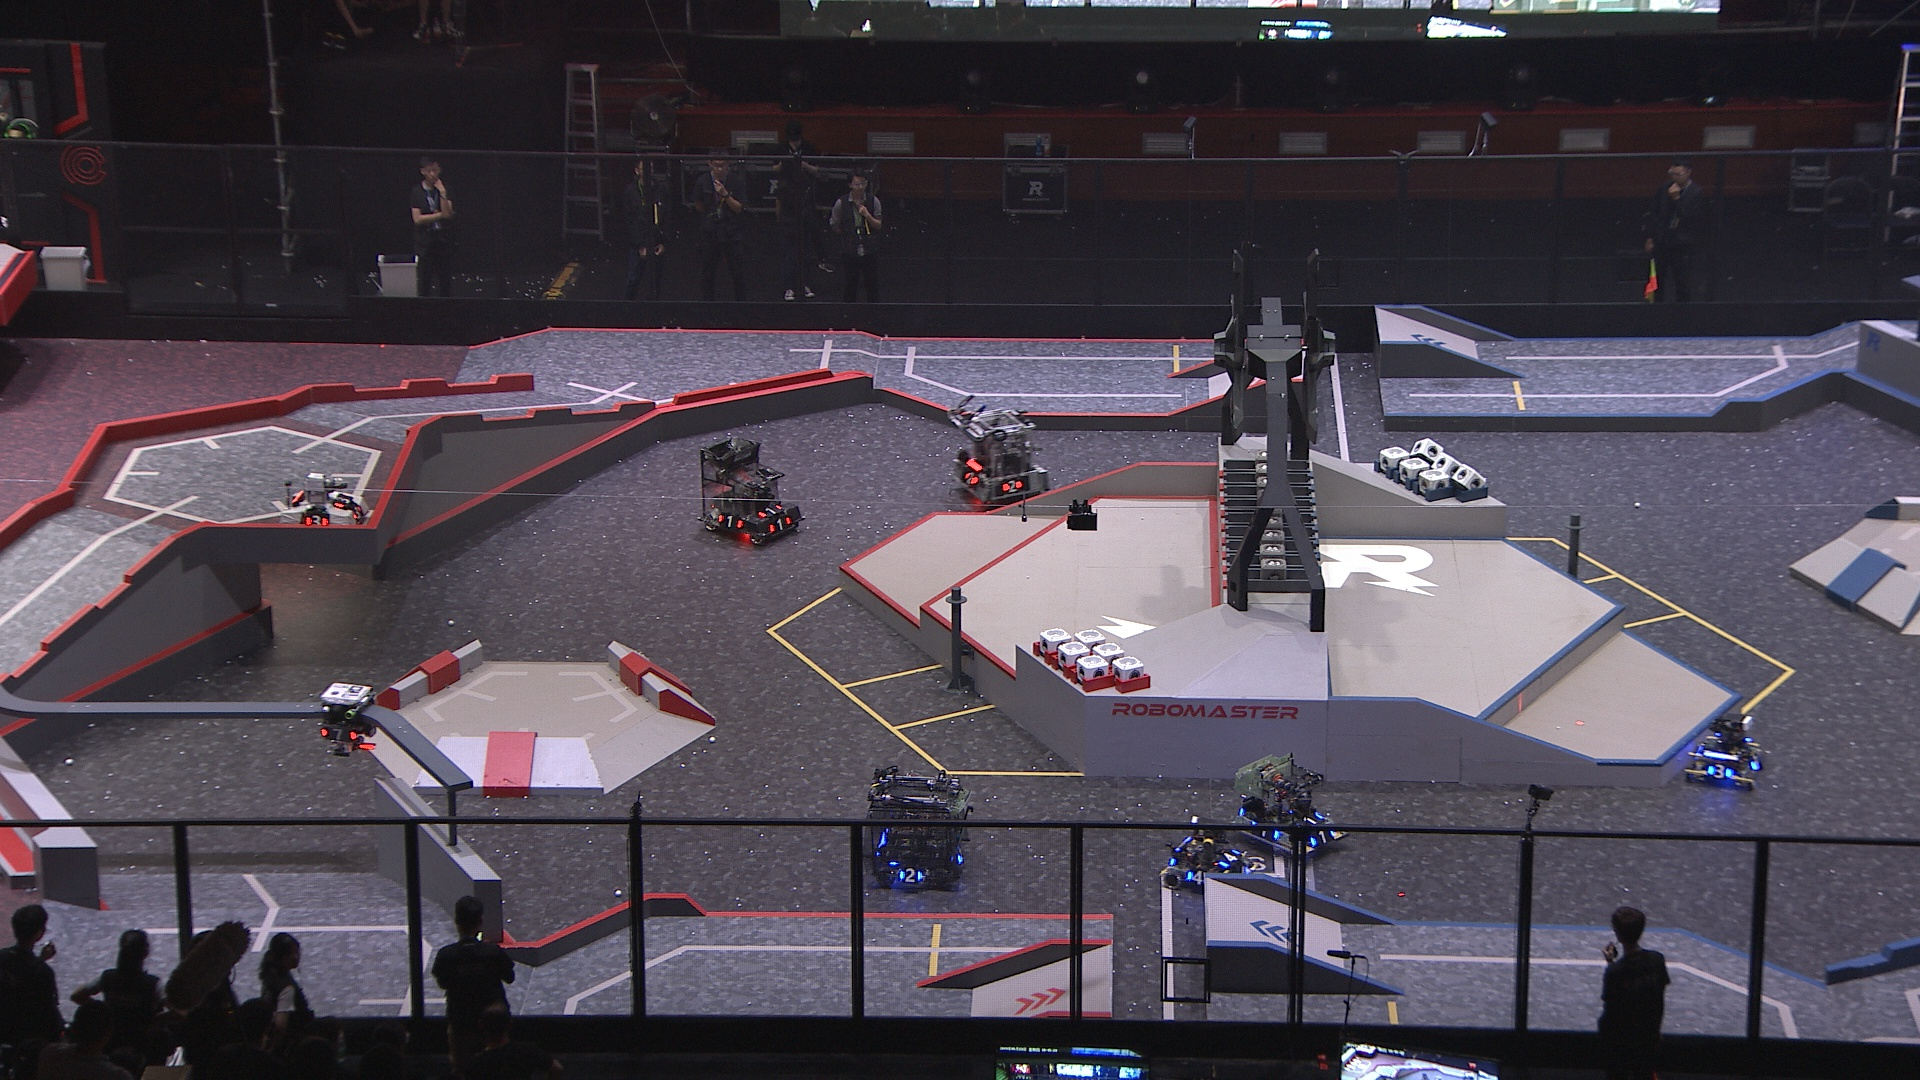armor: (319, 727, 357, 742), (1305, 829, 1335, 849), (897, 865, 927, 884), (717, 512, 745, 531), (1706, 764, 1735, 782), (1218, 849, 1242, 872), (757, 502, 785, 520), (767, 516, 793, 533), (305, 512, 330, 527), (959, 469, 981, 487), (1299, 811, 1325, 825), (1185, 869, 1205, 887), (1001, 479, 1022, 496), (334, 493, 353, 510), (1750, 750, 1764, 771), (352, 505, 367, 524)
car: (861, 765, 972, 895), (1230, 754, 1349, 858), (694, 436, 802, 546), (948, 406, 1046, 506), (1159, 815, 1253, 895), (1683, 713, 1766, 793), (278, 473, 372, 537)
watcher: (315, 679, 378, 756)
